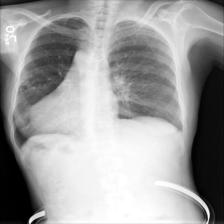normal: (8, 14, 189, 152)
